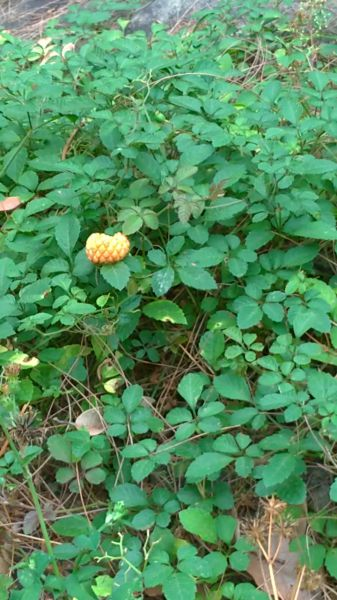eggs: (81, 225, 135, 269)
